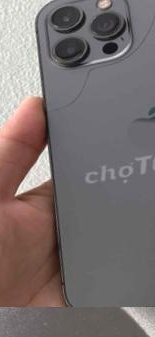physical_damage: (28, 0, 155, 120)
